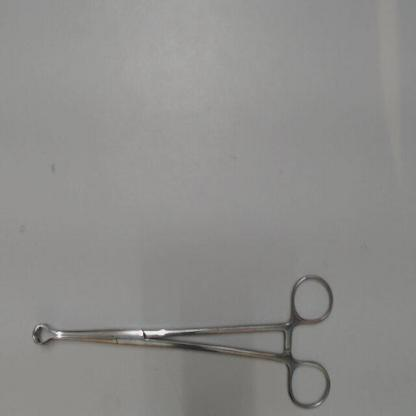8 Babcock Tissue Forceps: (28, 269, 336, 414)
